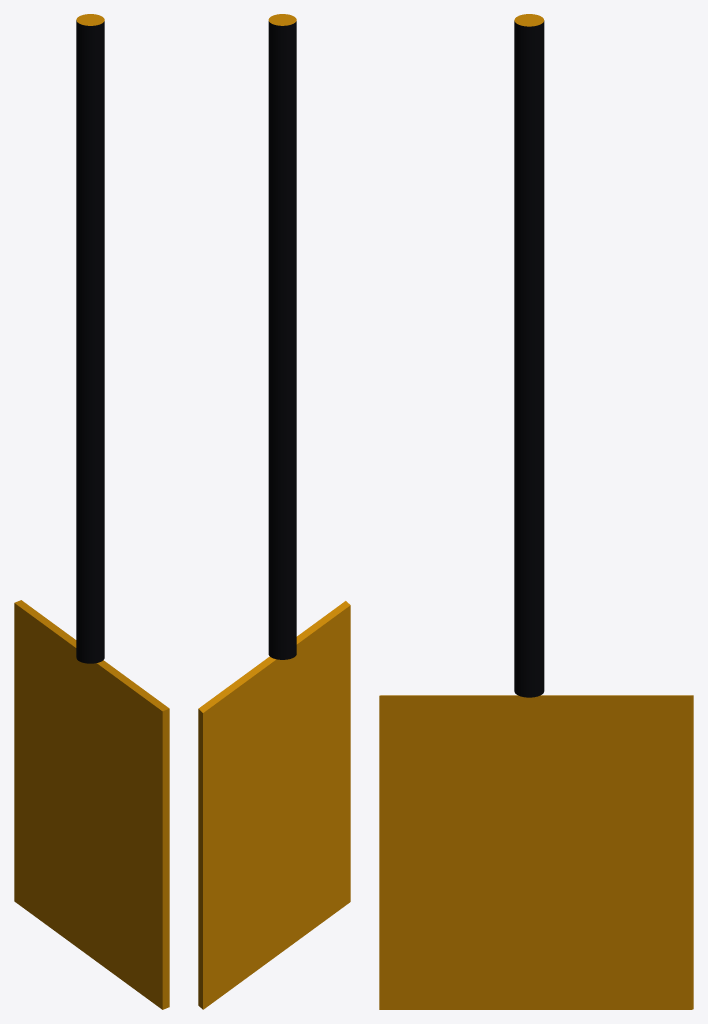
The model's file is Señalamiento.obj.
3 renders of one model, left to right at view 1: azimuth 30°, elevation 25°; view 2: azimuth 150°, elevation 25°; view 3: azimuth 270°, elevation 25°, orthographic. The views are drawn at different scales.
Parts seen in each view (by area): view 1: Poste; view 2: Poste; view 3: Poste.
Part boxes in pixels (left/top/right/bottom): Poste: left=14, top=14, right=169, bottom=1009; Poste: left=198, top=14, right=350, bottom=1009; Poste: left=379, top=14, right=693, bottom=1009.
Bounding box in the file's own units: 0.1336 × 4.88 × 1.41.
